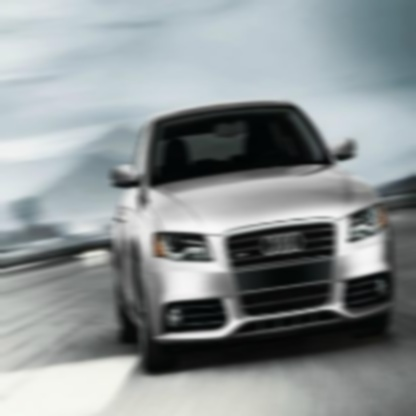Vehicle: (110, 99, 396, 377)
